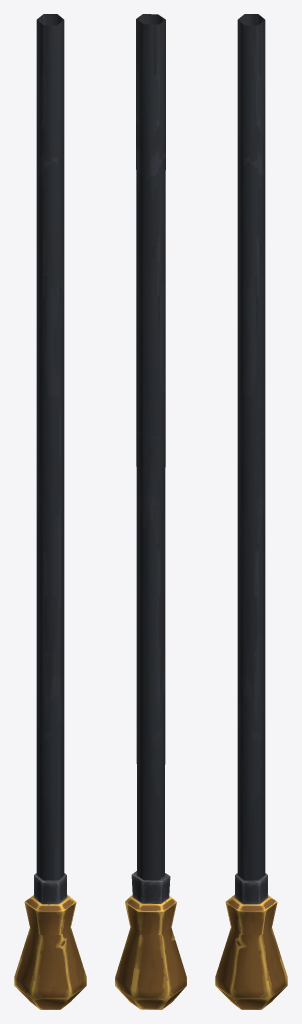
The model's file is SM_WEP_hilt_staff_battle_03.fbx.
3 renders of one model, left to right at view 1: azimuth 90°, elevation 25°; view 2: azimuth 150°, elevation 25°; view 3: azimuth 270°, elevation 25°, orthographic.
Visible parts, largest first — view 1: SM_WEP_hilt_staff_battle_03; view 2: SM_WEP_hilt_staff_battle_03; view 3: SM_WEP_hilt_staff_battle_03.
Part boxes in pixels (bbox=[...]): SM_WEP_hilt_staff_battle_03: bbox=[14, 14, 86, 1009]; SM_WEP_hilt_staff_battle_03: bbox=[115, 14, 186, 1009]; SM_WEP_hilt_staff_battle_03: bbox=[215, 14, 287, 1009].
Size of the model in its own units: 11.92 by 208 by 13.95.
